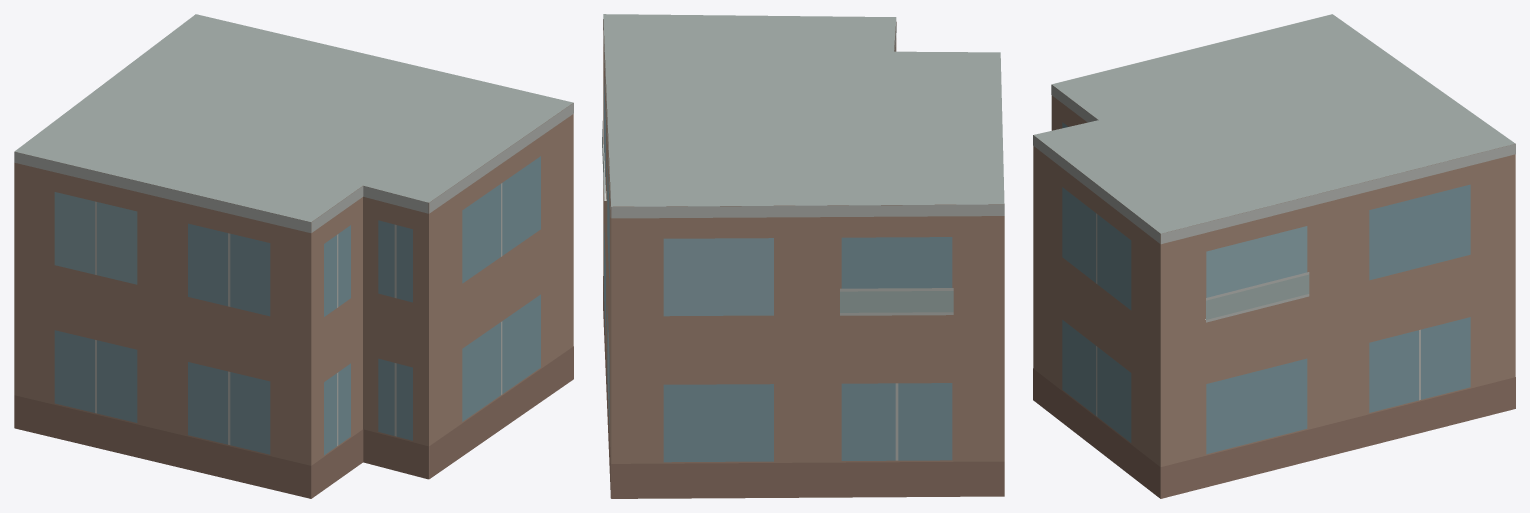
File: survey-upis-32881512.glb
3 views of the same model, side by side, from view 1: azimuth 30°, elevation 25°; view 2: azimuth 150°, elevation 25°; view 3: azimuth 270°, elevation 25° (orthographic). The views are drawn at different scales.
Parts seen in each view (by area): view 1: survey-upis-32881512.tmp; view 2: survey-upis-32881512.tmp; view 3: survey-upis-32881512.tmp.
Part boxes in pixels (bbox=[...]): survey-upis-32881512.tmp: bbox=[14, 14, 573, 498]; survey-upis-32881512.tmp: bbox=[602, 14, 1004, 498]; survey-upis-32881512.tmp: bbox=[1033, 14, 1515, 498].
Size of the model in its own units: 10.85 by 6.1 by 10.07.
